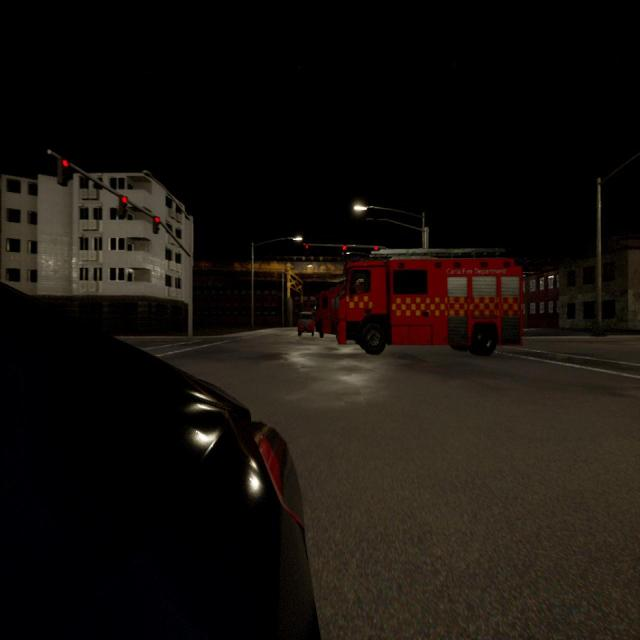Vehicle: (0, 290, 311, 637), (338, 252, 522, 354), (318, 285, 344, 338), (298, 312, 314, 336)
traffic_light: (58, 158, 68, 185), (119, 196, 127, 218), (153, 216, 159, 234), (342, 245, 347, 251), (374, 246, 378, 250), (306, 245, 308, 249)
